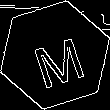M_N: (25, 24, 85, 86)
